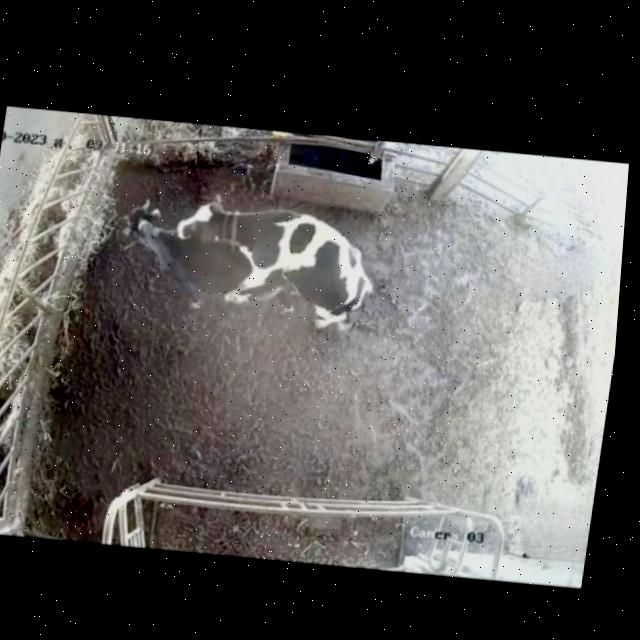ride: (159, 186, 403, 348)
stand: (106, 200, 283, 325)
